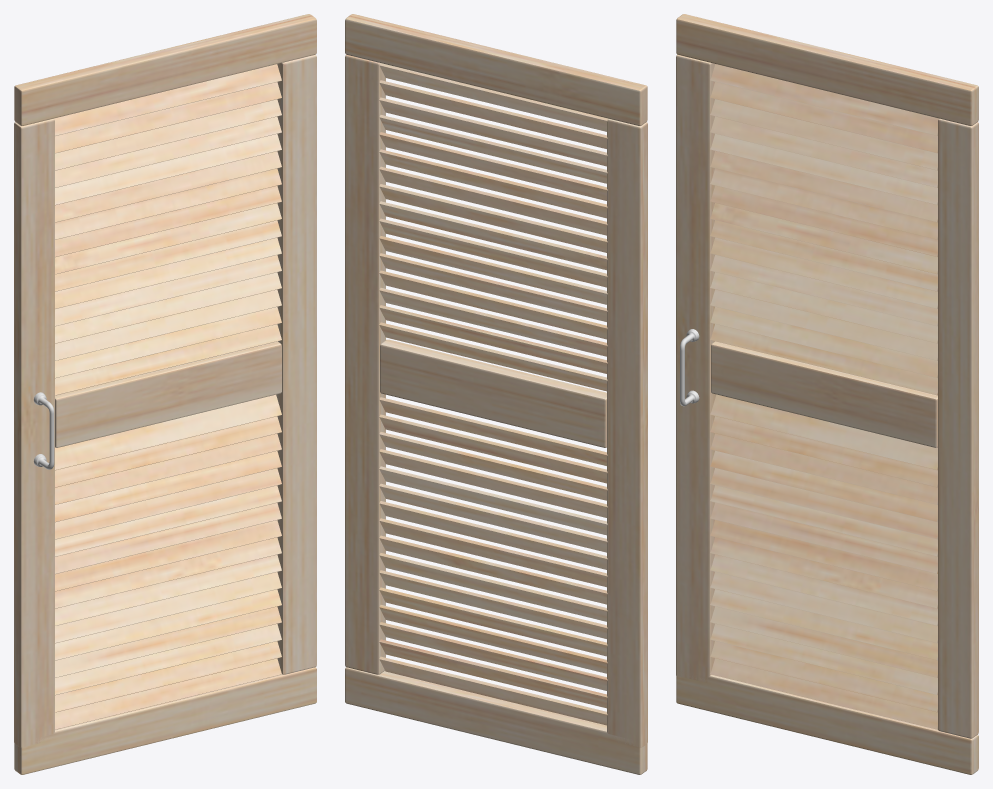
Rendered from Closet_Door(Right).fbx.
3 views of the same model, side by side, from view 1: azimuth 30°, elevation 25°; view 2: azimuth 150°, elevation 25°; view 3: azimuth 330°, elevation 25° (orthographic).
Parts seen in each view (by area): view 1: Closet_Door1; view 2: Closet_Door1; view 3: Closet_Door1.
Part boxes in pixels (bbox=[...]): Closet_Door1: bbox=[14, 14, 316, 774]; Closet_Door1: bbox=[345, 14, 647, 774]; Closet_Door1: bbox=[676, 14, 978, 774].
Size of the model in its own units: 4.47 by 9.87 by 0.5511.
Materials: 2 (1 with a texture image).
